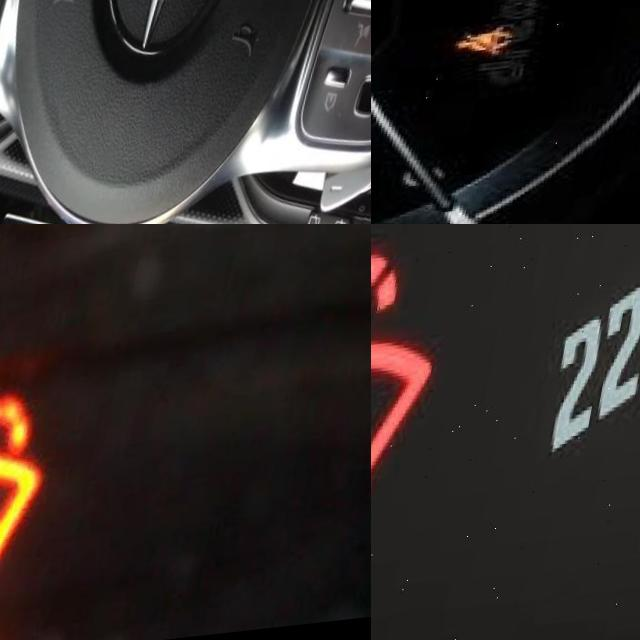Seat Belt: (468, 31, 530, 67)
Washer Fluid: (0, 393, 73, 606)
